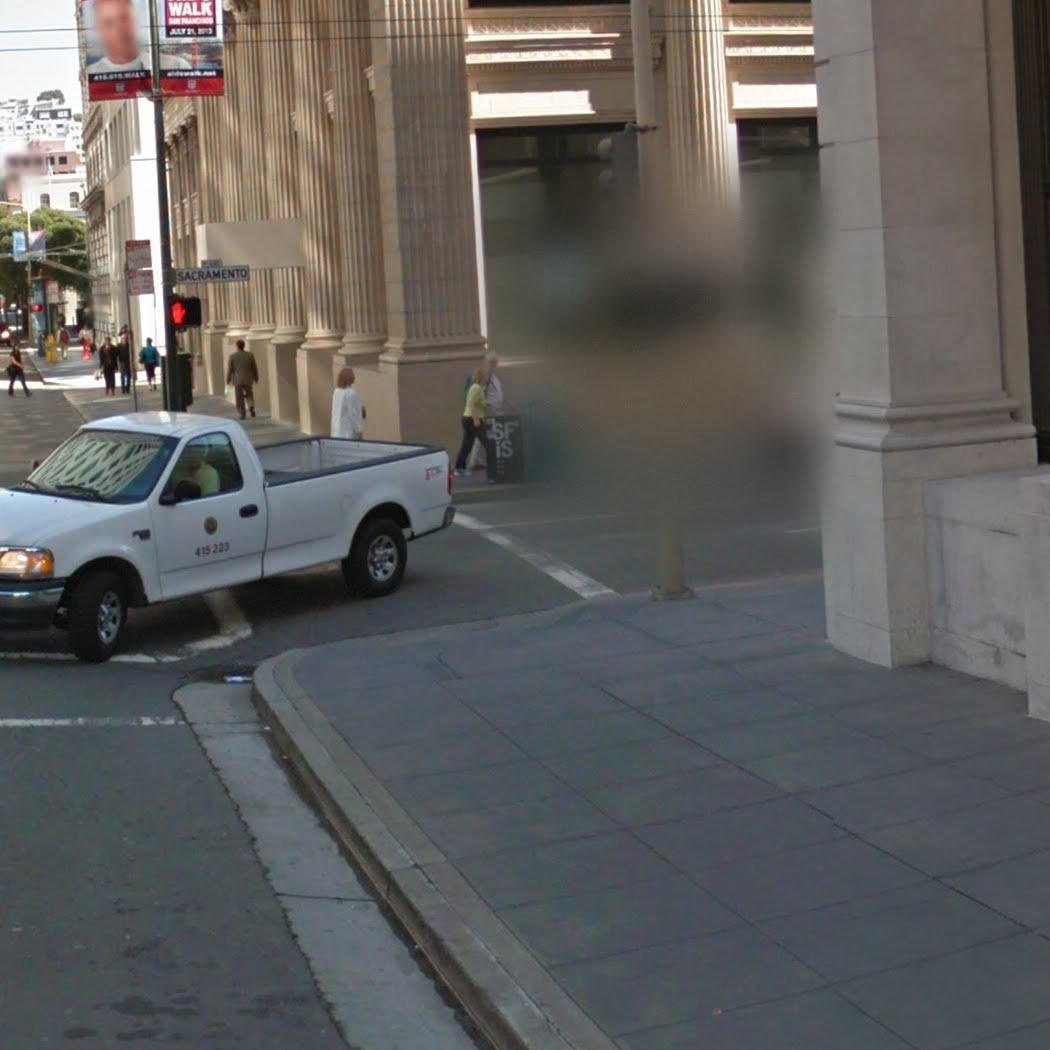No Parking: (127, 270, 154, 294)
